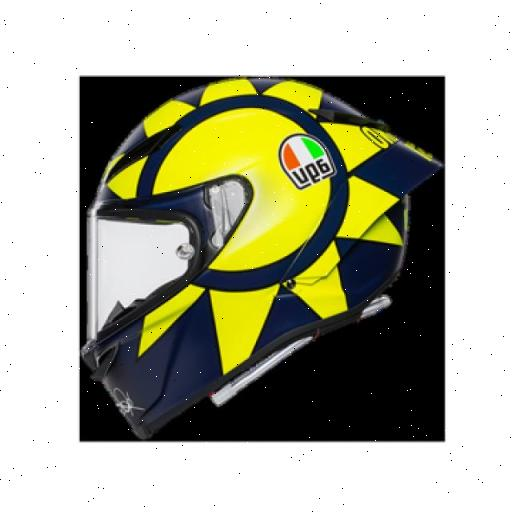Helmet: (82, 80, 444, 446)
